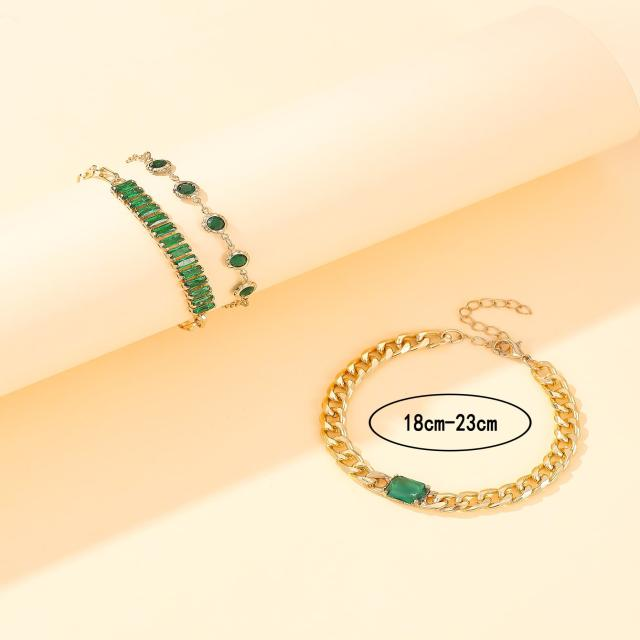bracelet: (277, 278, 636, 541), (70, 102, 300, 336)
